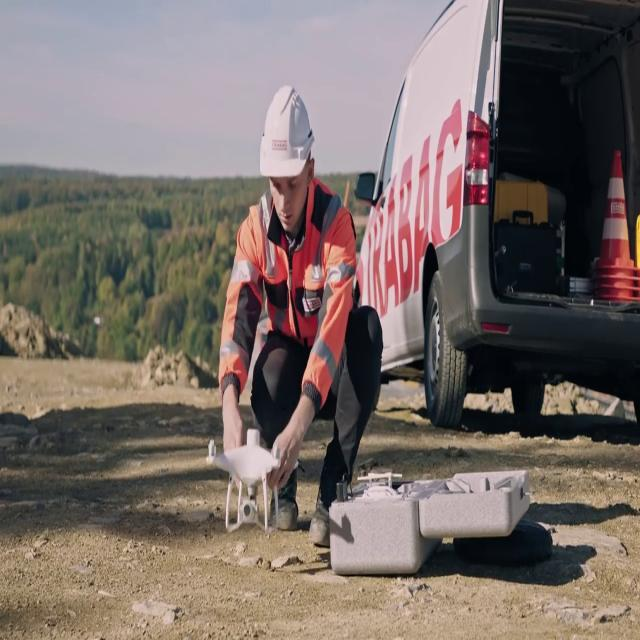drone: (206, 428, 280, 534)
